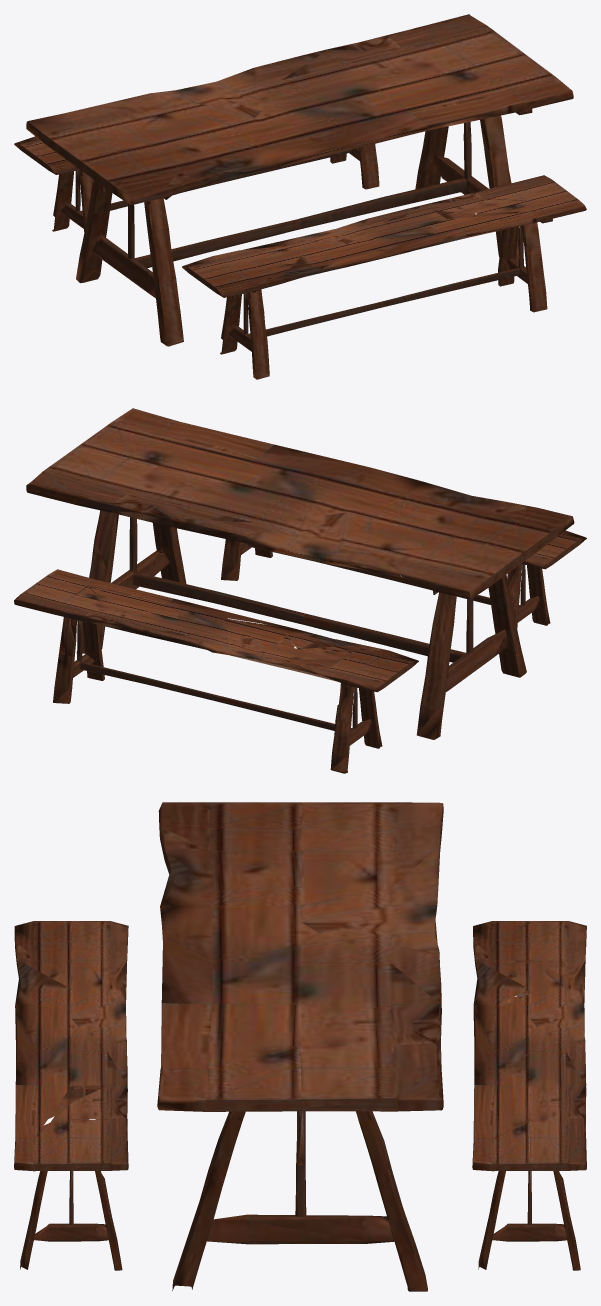
The model's file is dining-set.lod1.glb.
The picture shows the model from 3 angles, top to bottom: view 1: azimuth 30°, elevation 25°; view 2: azimuth 150°, elevation 25°; view 3: azimuth 270°, elevation 25°; orthographic projection. The views are drawn at different scales.
Bounding box in the file's own units: 2.2 × 0.7768 × 1.8.
1 material, 1 textured.
